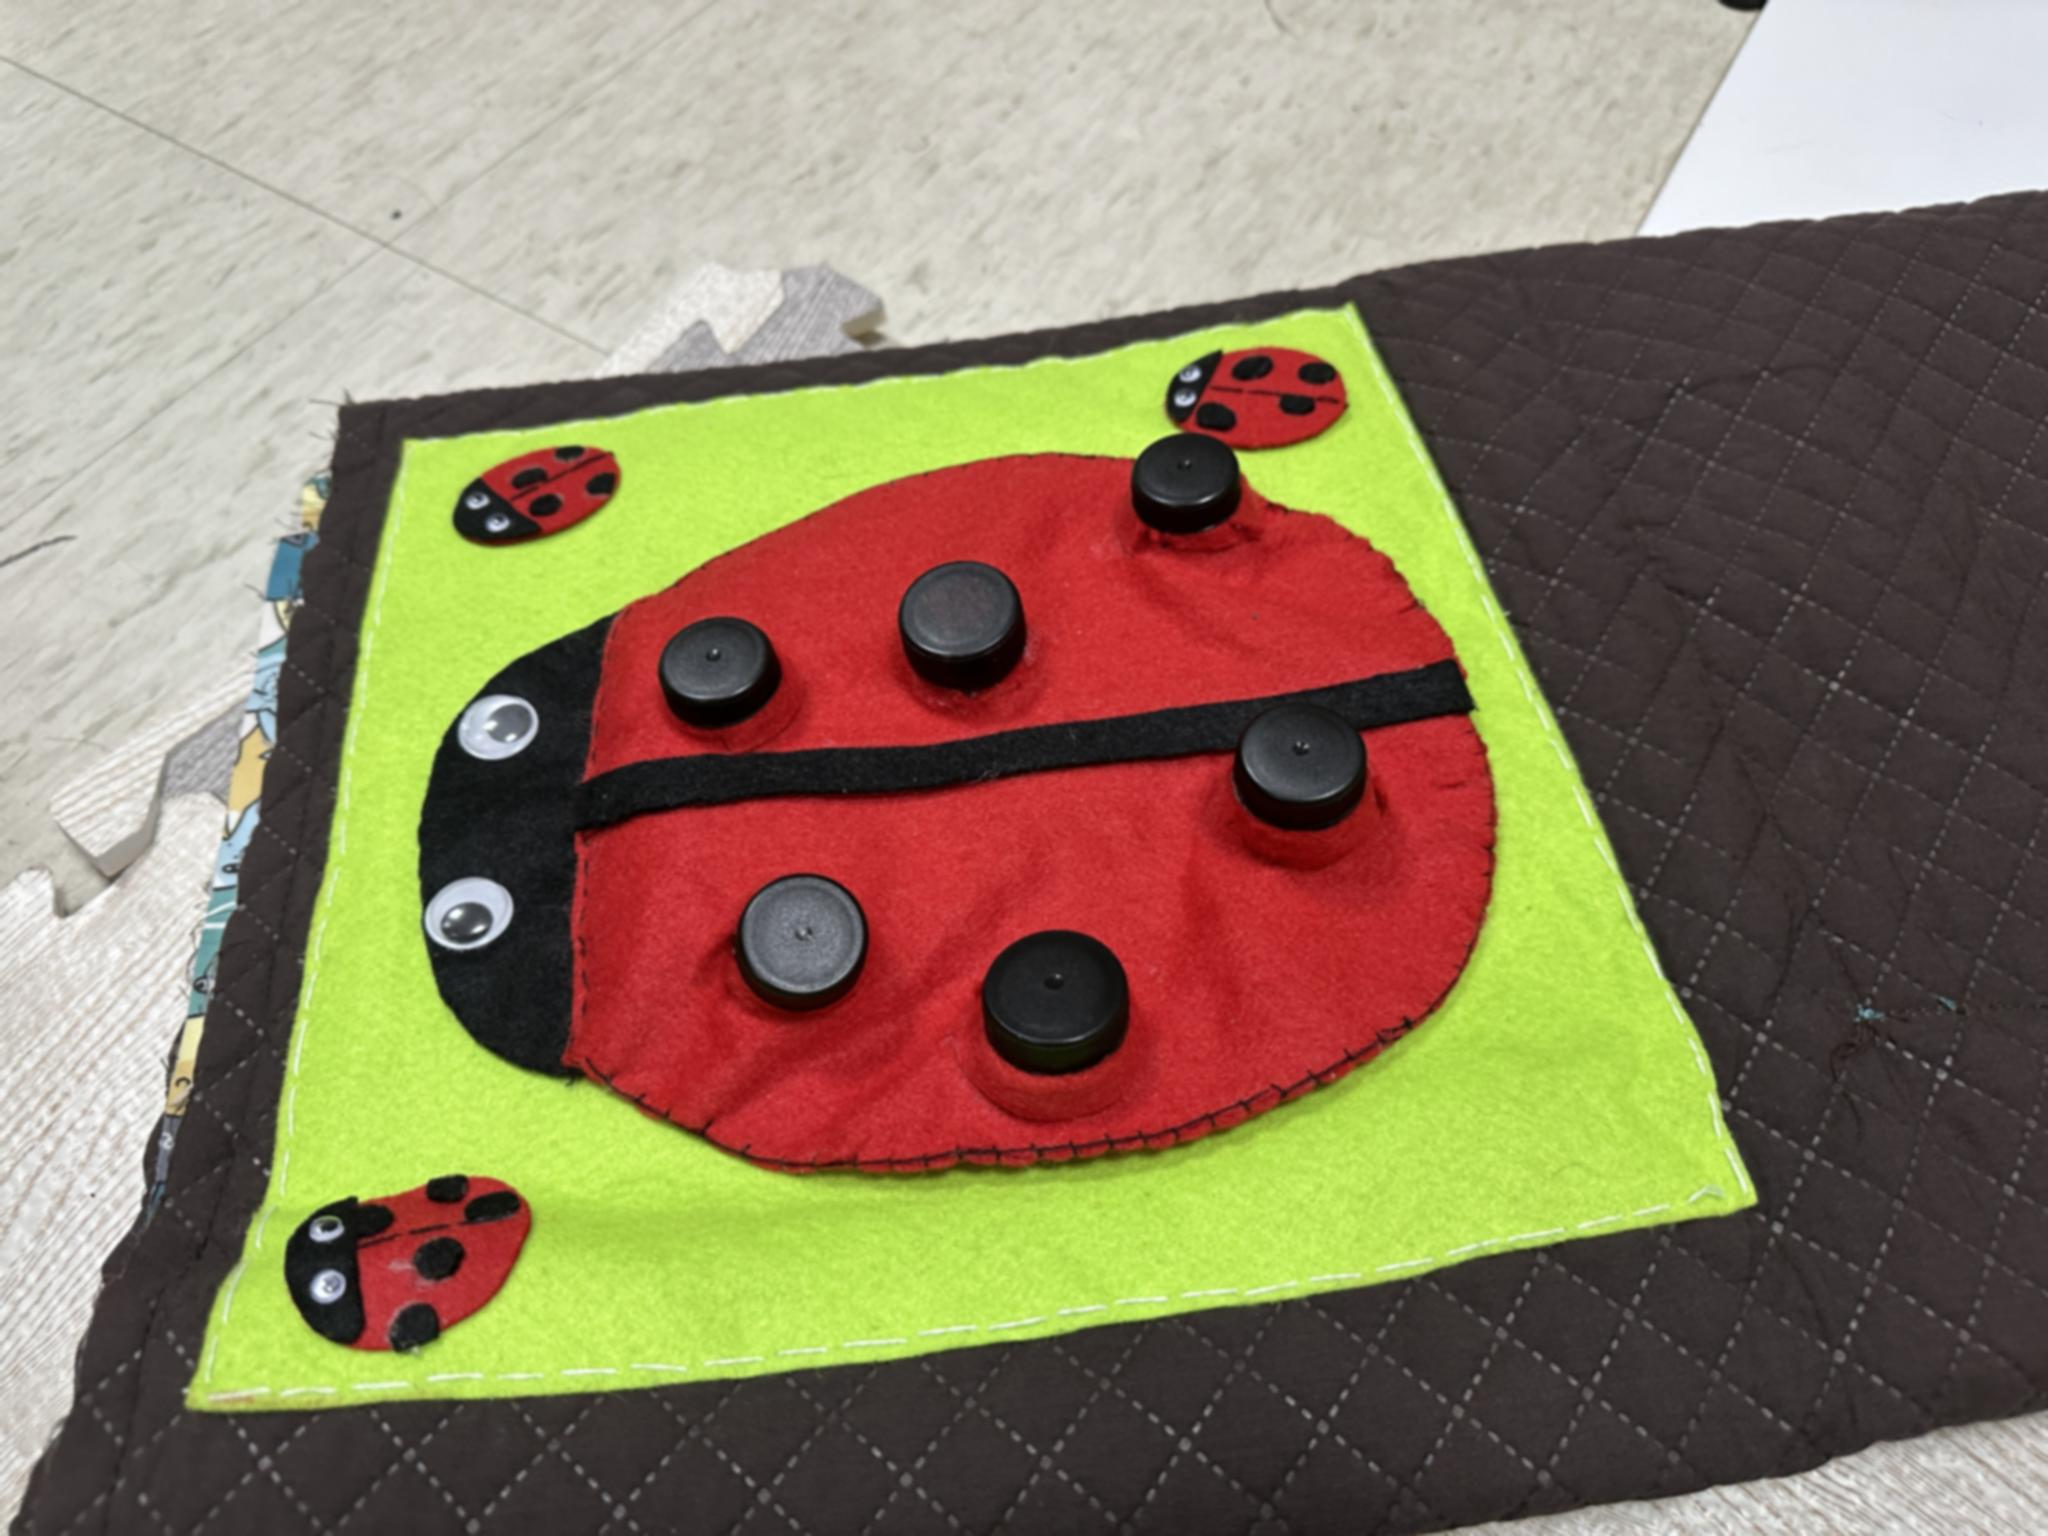cap_ok: (926, 905, 1143, 1115), (1182, 691, 1445, 862), (698, 852, 885, 1031), (1092, 410, 1274, 576), (866, 545, 1042, 710), (637, 602, 810, 753)
